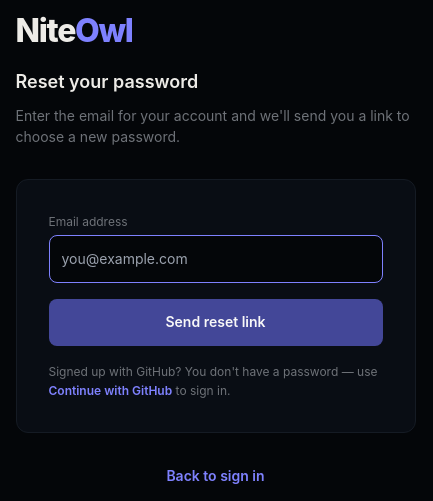
Test: ForgotPasswordPage › shows the generic confirmation after submitting (no enumeration leak)
This screenshot has width=433, height=501.
In the field labelled "Email address": [216, 259] box [48,235,382,283], type "user@example.com"
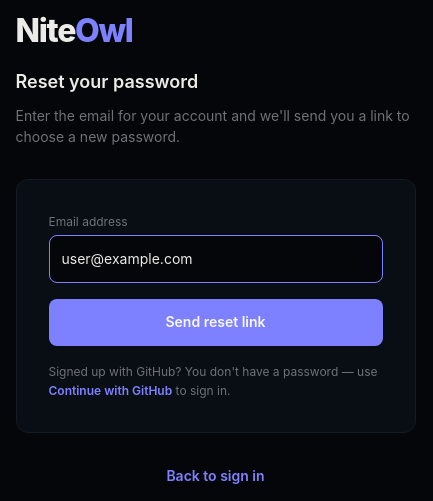
Click the button "Send reset link": [216, 322] box [48,299,382,346]
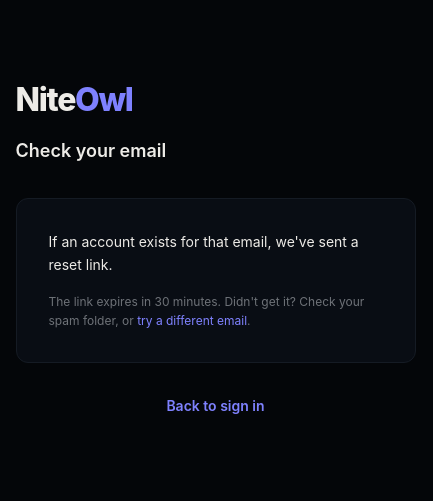
Check: the text "If an account exists for that email, we've sent a reset link." is shown, box [48,231,382,276]
